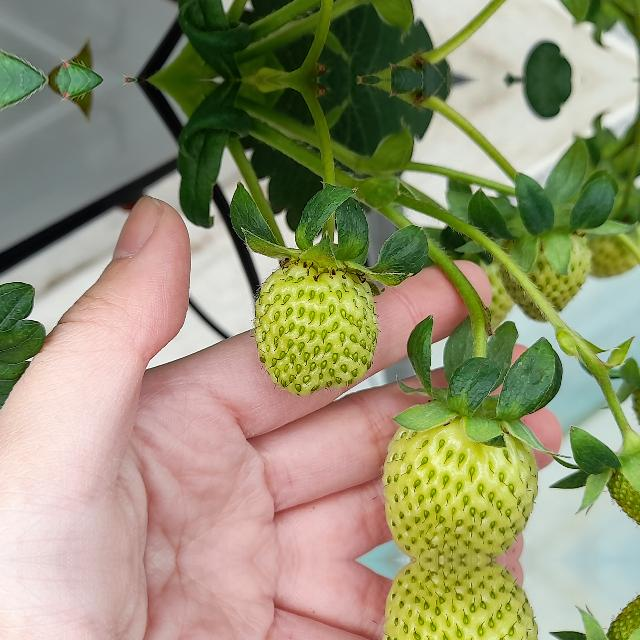Health_25: (386, 408, 526, 560), (254, 258, 378, 396), (385, 560, 526, 640), (506, 213, 586, 323), (610, 426, 640, 522), (610, 598, 639, 640)
